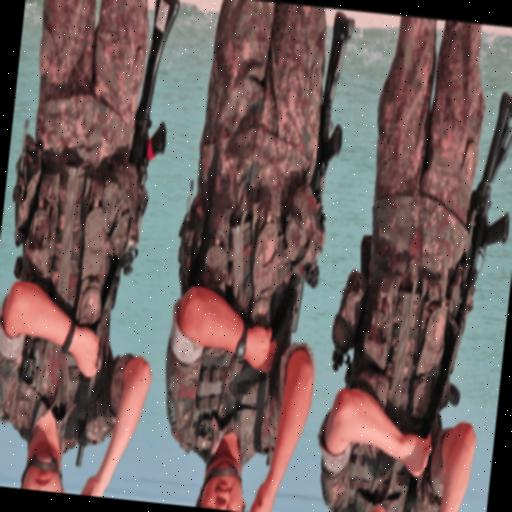korea army: (157, 0, 351, 495), (312, 40, 512, 512), (0, 0, 186, 500)
